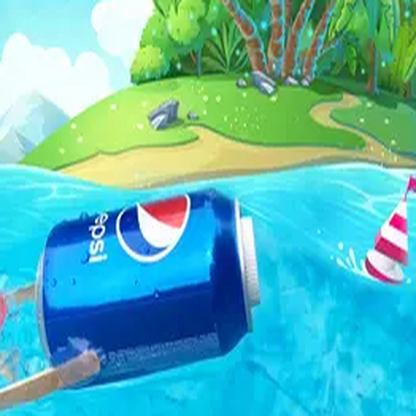can: (33, 181, 278, 392)
